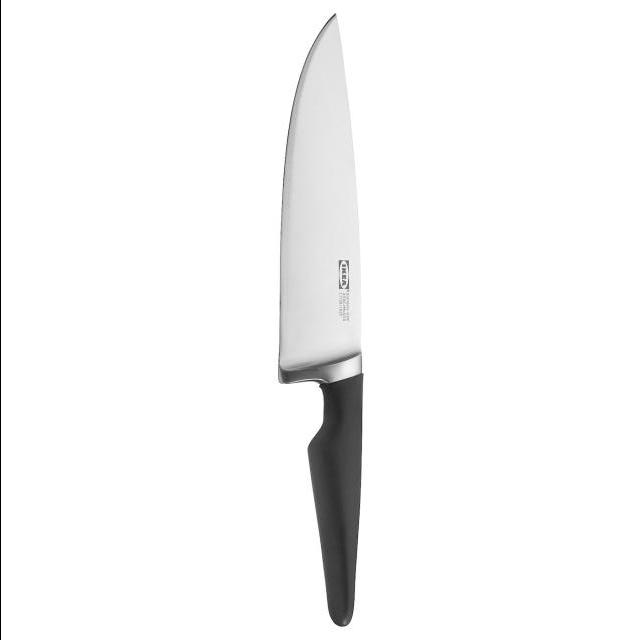knife: (262, 2, 378, 633)
